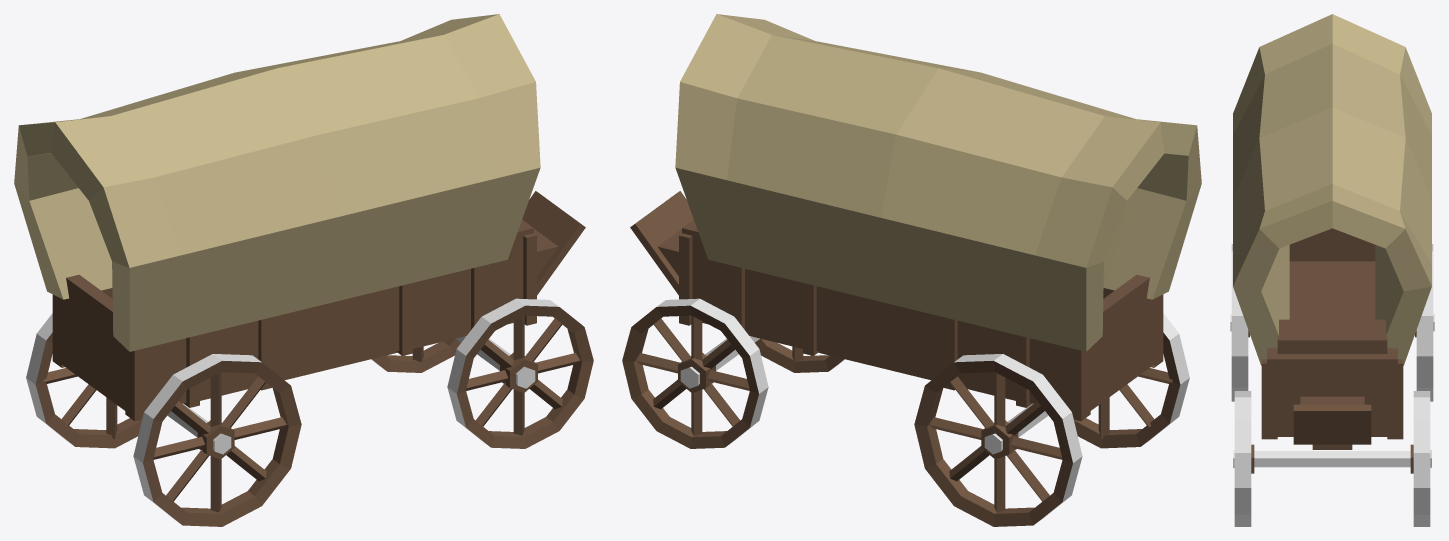
The model's file is horse-wagon.fbx.
3 renders of one model, left to right at view 1: azimuth 30°, elevation 25°; view 2: azimuth 150°, elevation 25°; view 3: azimuth 270°, elevation 25°, orthographic. The views are drawn at different scales.
Parts seen in each view (by area): view 1: horse-wagon, wagon-wheels_back, wagon-wheels_front; view 2: horse-wagon, wagon-wheels_back, wagon-wheels_front; view 3: horse-wagon, wagon-wheels_front, wagon-wheels_back.
Boxes of the visible parts, x1,y1,x2,y2 form: horse-wagon: [14, 14, 585, 421]; wagon-wheels_back: [26, 313, 301, 526]; wagon-wheels_front: [371, 298, 593, 448]; horse-wagon: [630, 14, 1201, 421]; wagon-wheels_back: [914, 313, 1189, 526]; wagon-wheels_front: [622, 298, 844, 448]; horse-wagon: [1233, 14, 1431, 449]; wagon-wheels_front: [1233, 391, 1431, 526]; wagon-wheels_back: [1230, 244, 1434, 401].
Bounding box in the file's own units: 4.4 × 3.19 × 1.76.
